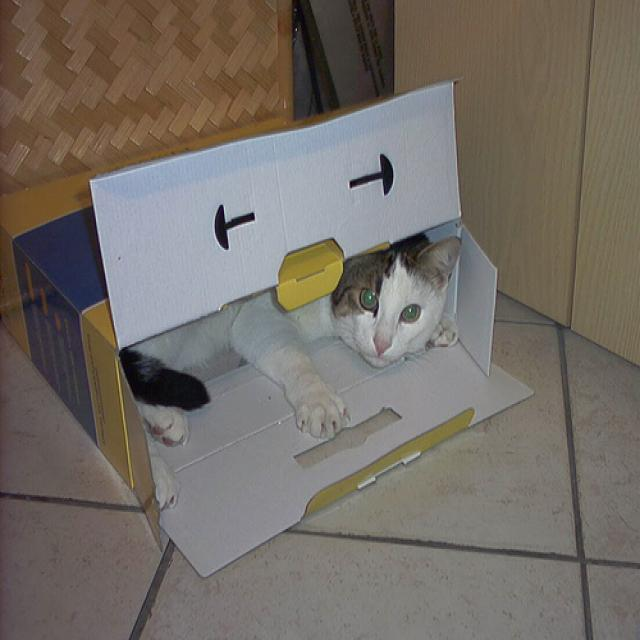left eye: (398, 301, 422, 324)
